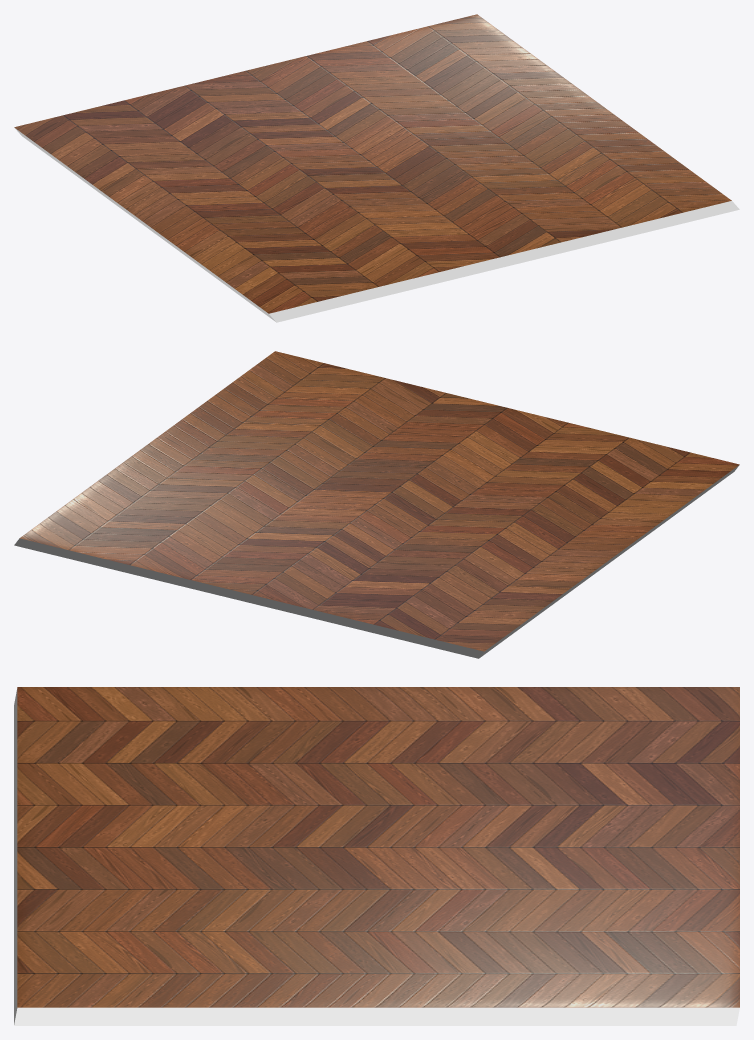
File: Floor.glb
3 renders of one model, top to bottom at view 1: azimuth 30°, elevation 25°; view 2: azimuth 150°, elevation 25°; view 3: azimuth 270°, elevation 25°, orthographic. The views are drawn at different scales.
Parts seen in each view (by area): view 1: Plane; view 2: Plane; view 3: Plane.
Part boxes in pixels (left/top/right/bottom): Plane: left=14, top=14, right=739, bottom=322; Plane: left=14, top=351, right=739, bottom=658; Plane: left=14, top=687, right=739, bottom=1025.
Bounding box in the file's own units: 221 × 4.34 × 208.
Materials: 1 (1 with a texture image).
